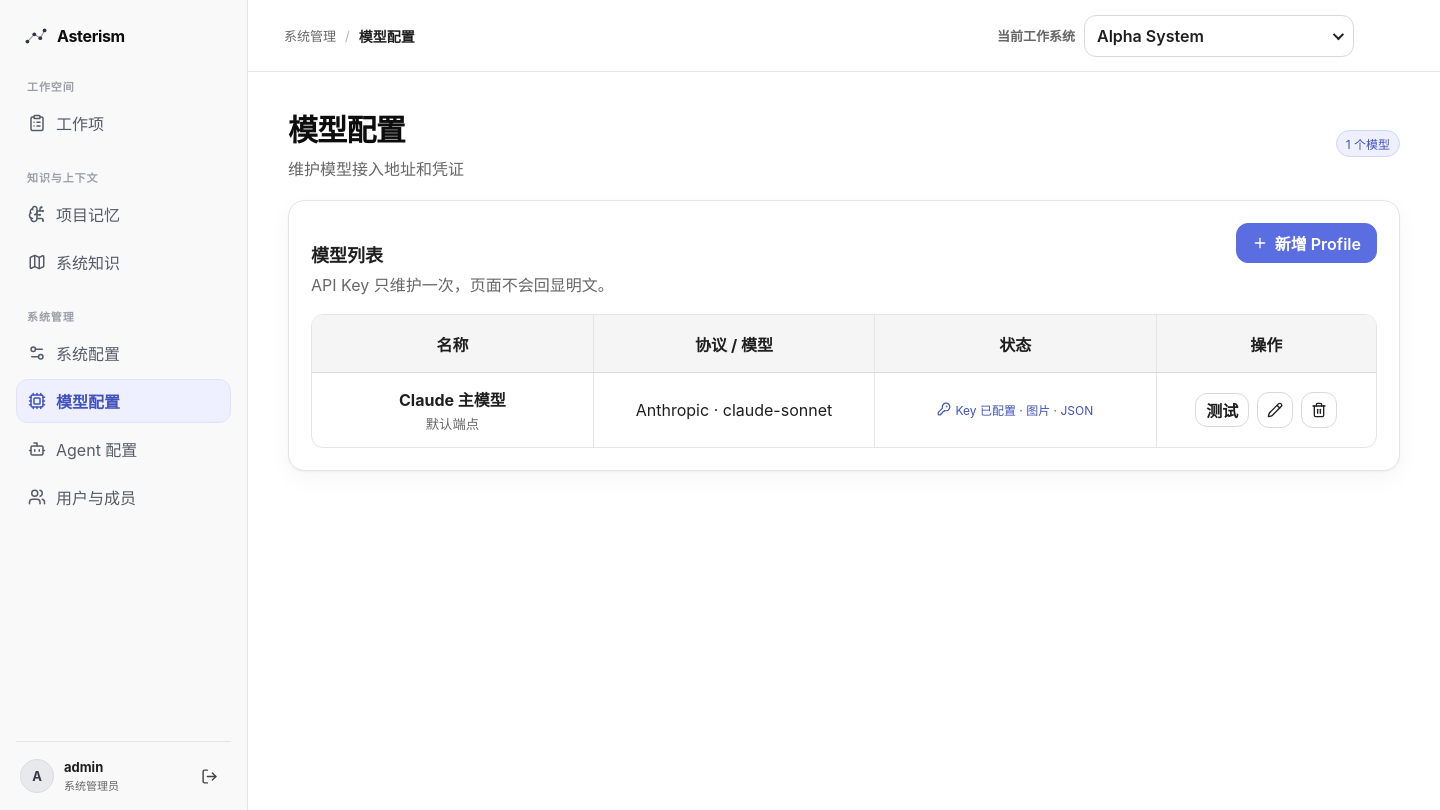
Test case: model profile edit opens a centered dialog instead of an inline form
This screenshot has width=1440, height=810.
Step 1. Click the button named "编辑 Claude 主模型" → point(1275, 410), box 1257,392 -> 1293,428
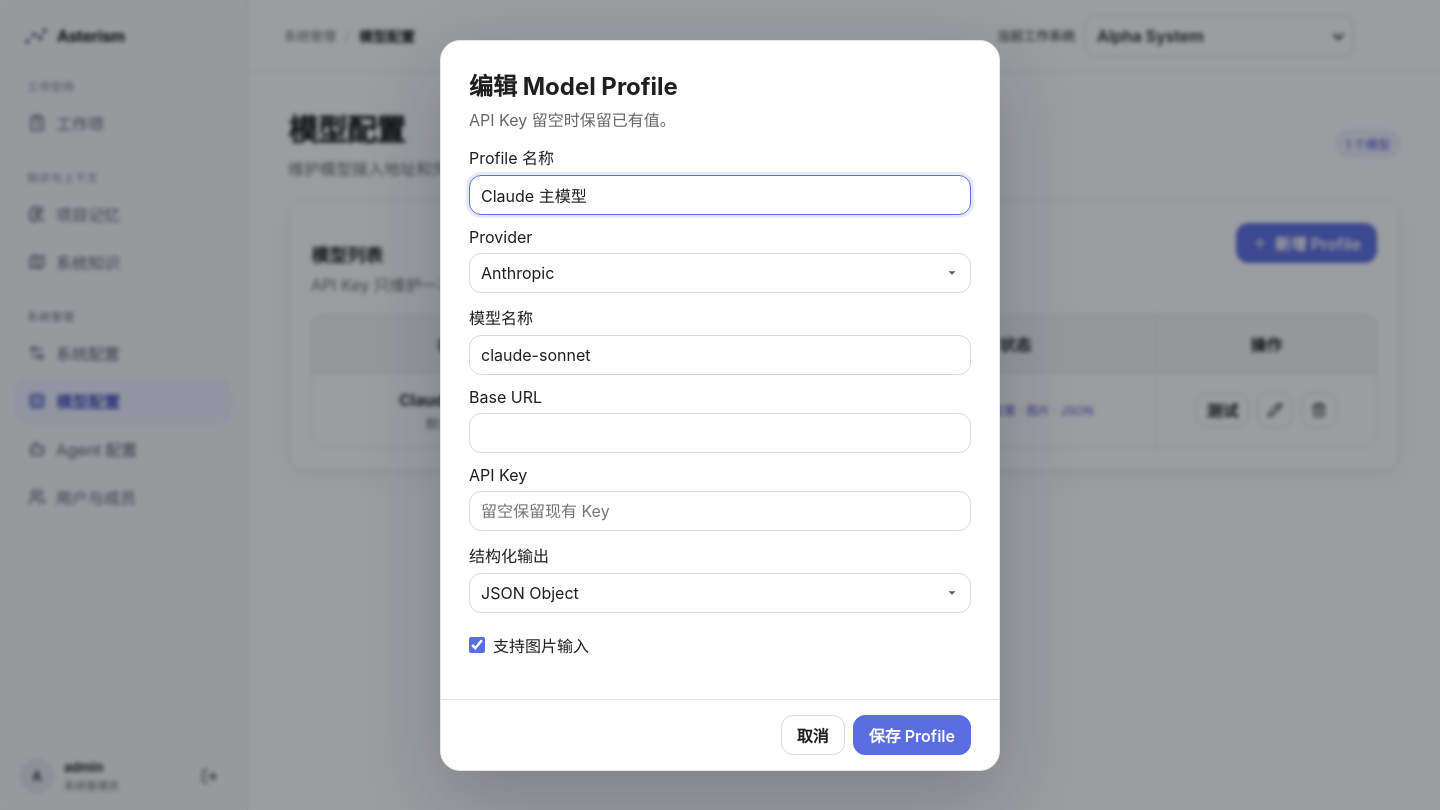
Expected: the heading "编辑 Model Profile" is shown, 469,66 -> 678,102
Expected: the field labelled "Profile 名称" holds "Claude 主模型", 469,174 -> 971,214
